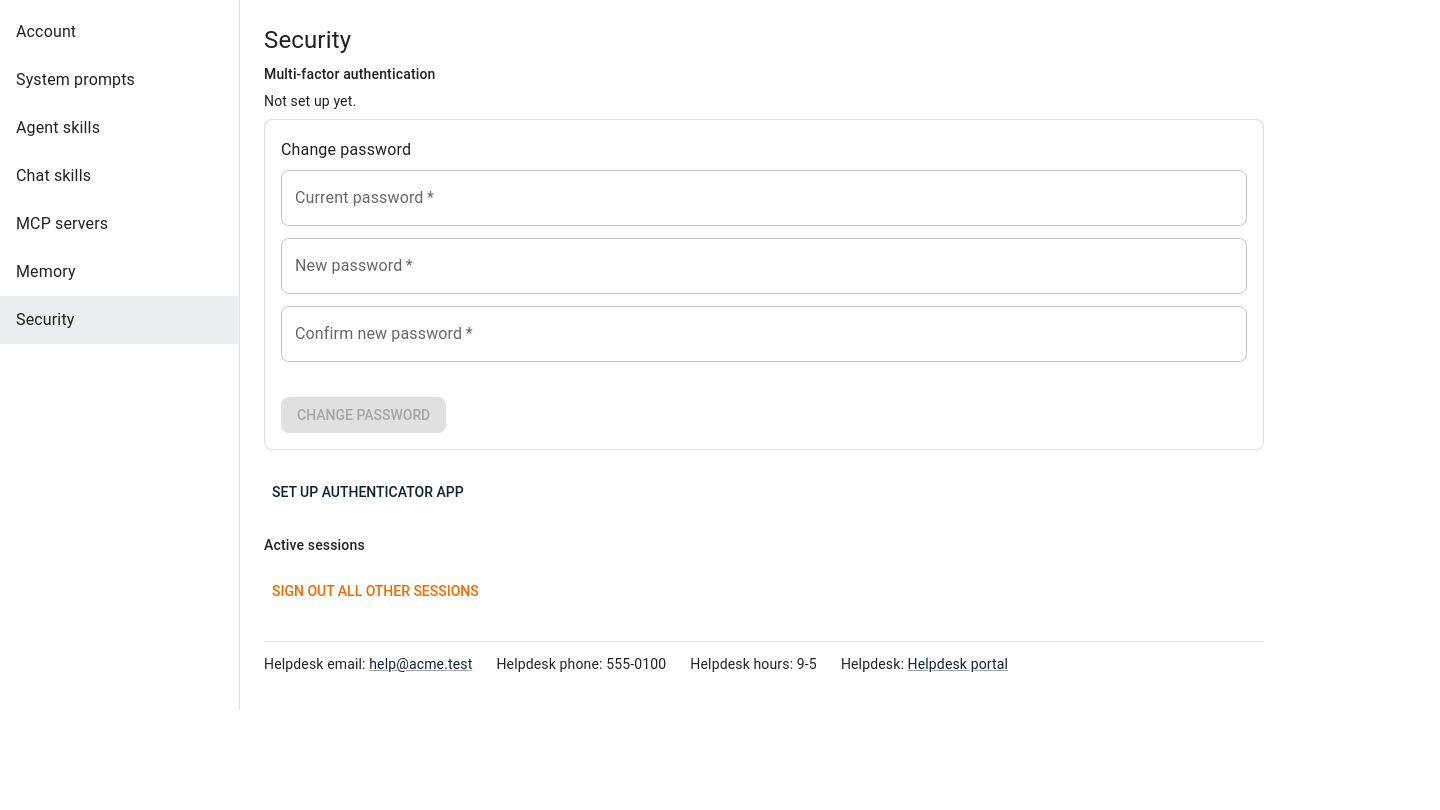
Test: change password (profile → Security) › shows the server's reason when it is refused
The width and height of the screenshot is (1440, 810).
Type "wrong-password" into the password field labelled "Current password *" at (764, 198), box left=281, top=170, right=1247, bottom=226
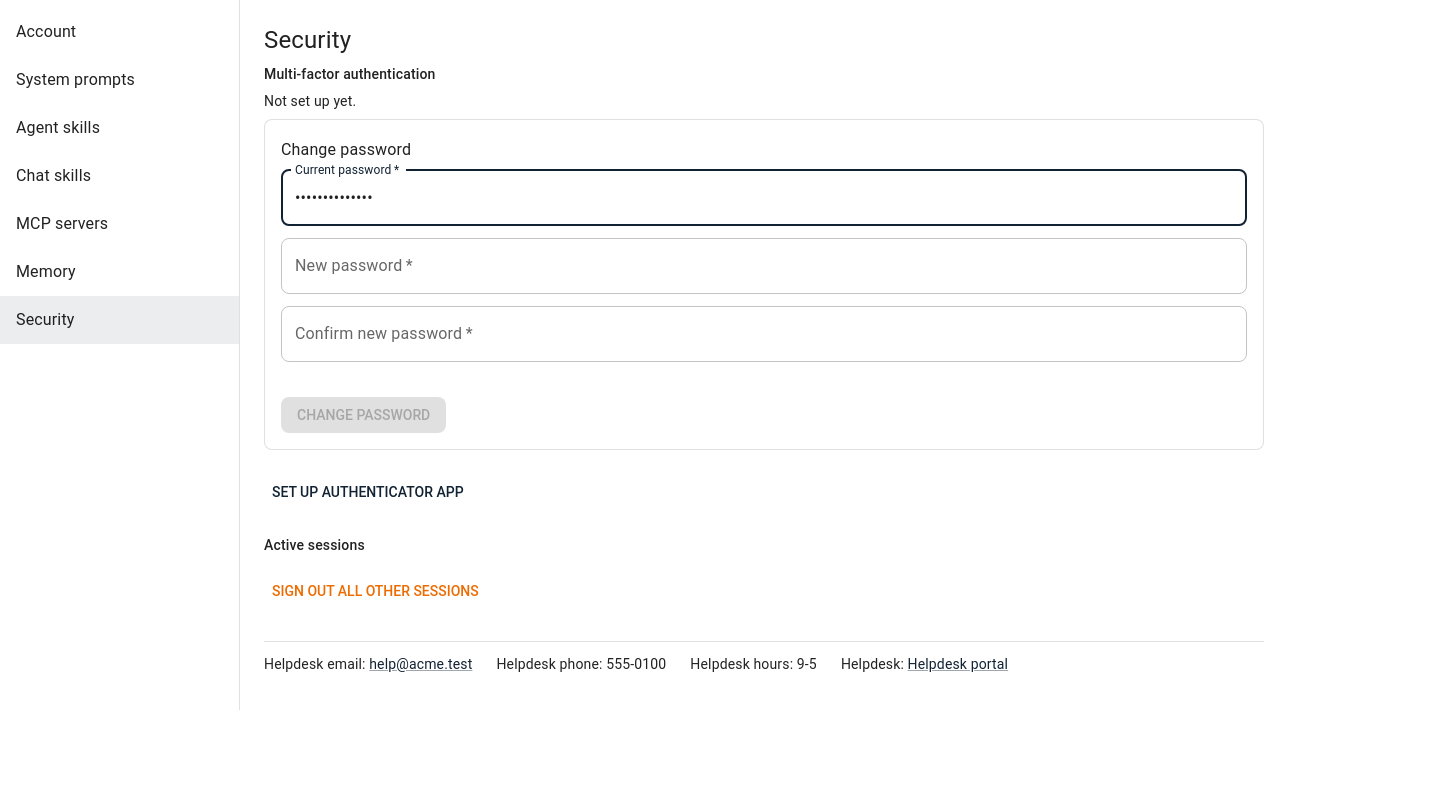
Type "brand-new-pass-2" into the password field labelled "New password *" at (764, 266), box left=281, top=238, right=1247, bottom=294
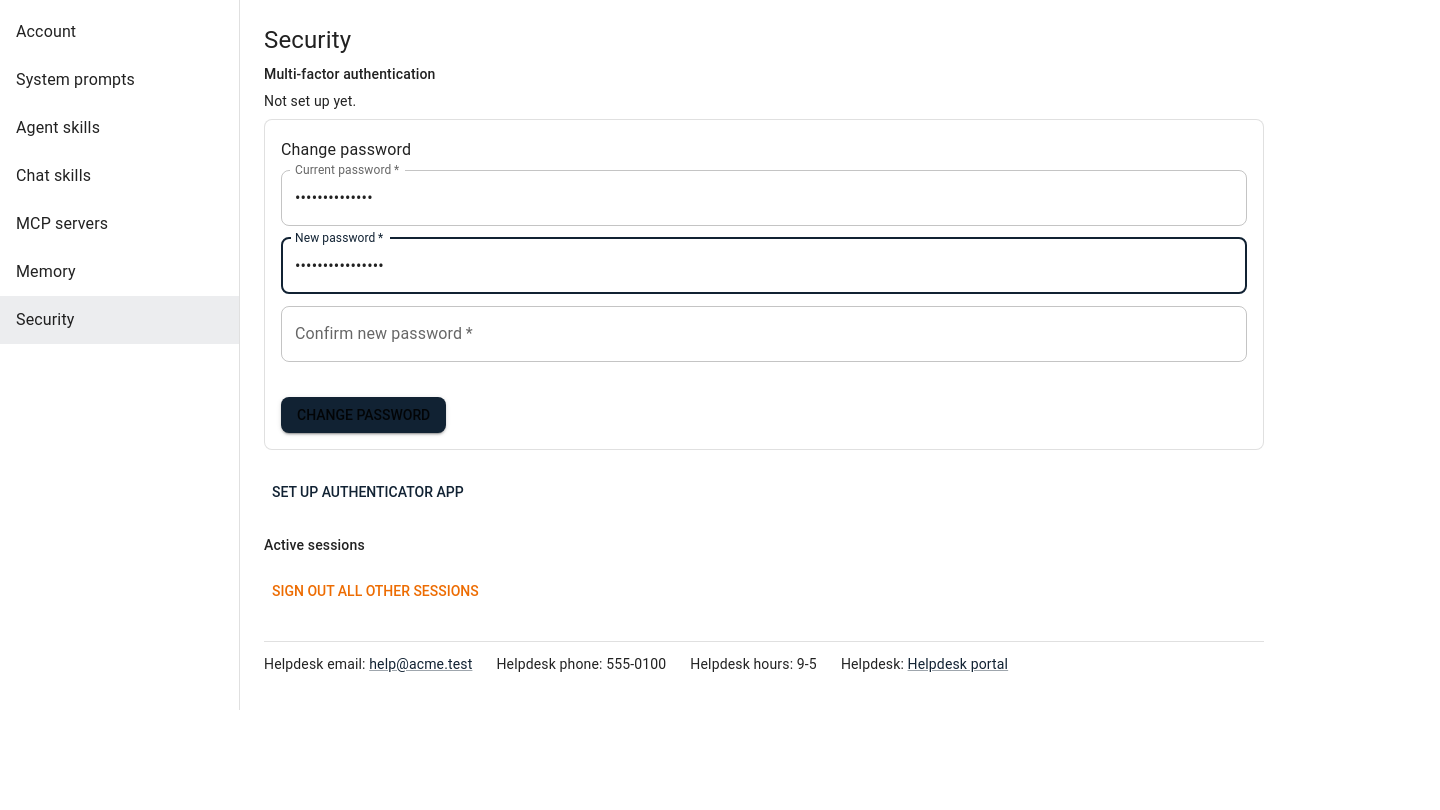
Type "brand-new-pass-2" into the password field labelled "Confirm new password *" at (764, 334), box left=281, top=306, right=1247, bottom=362
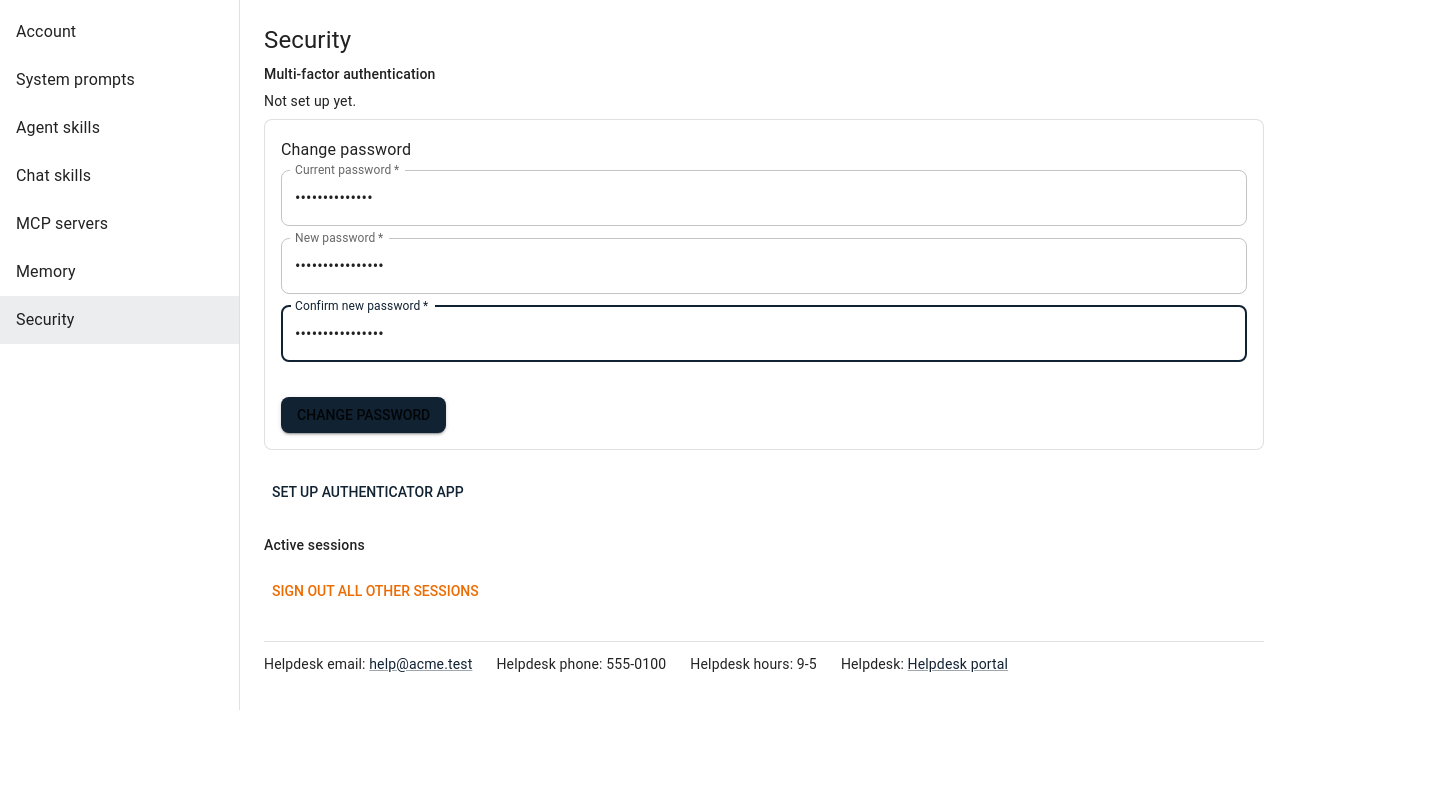
Click the button "Change password" at (364, 415), box left=281, top=397, right=446, bottom=433
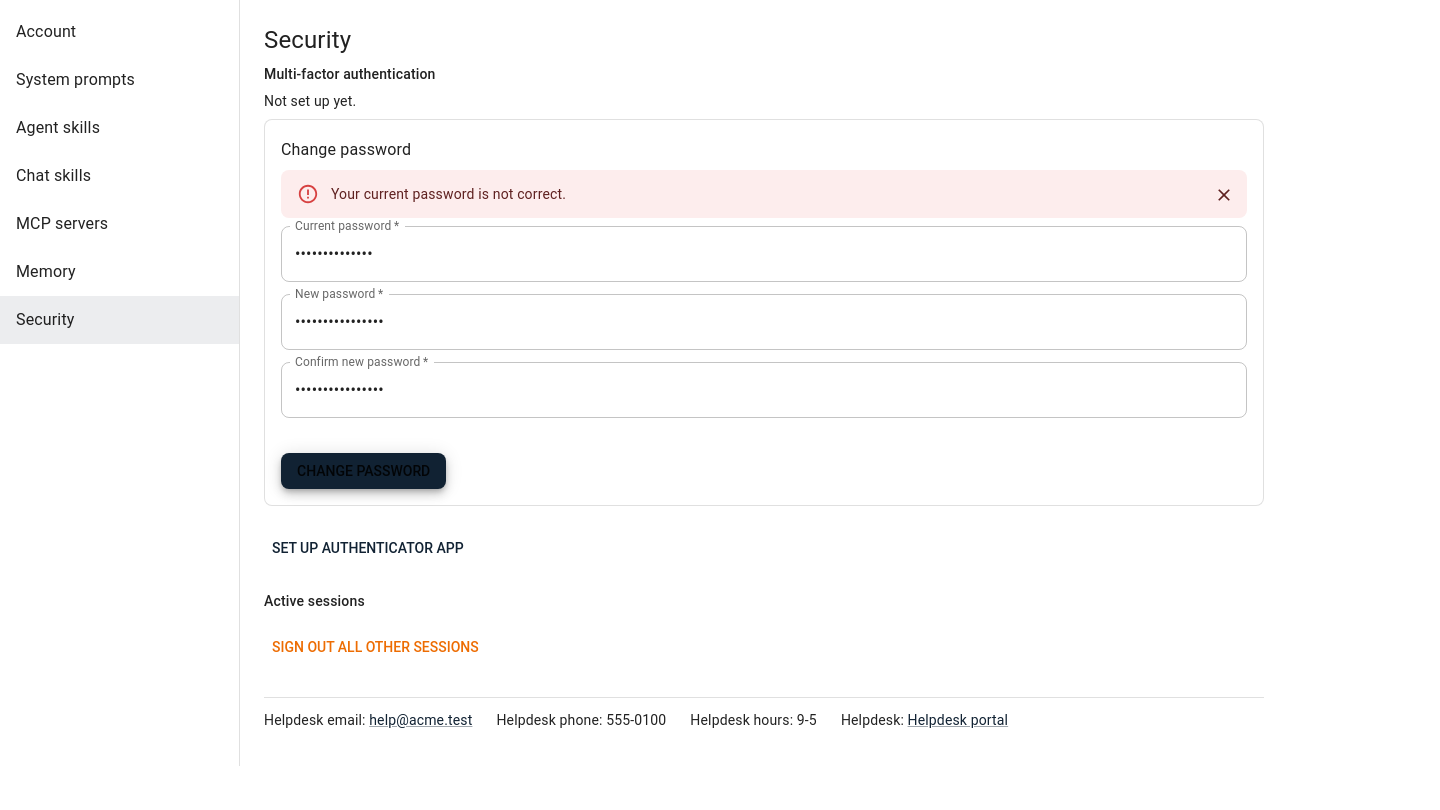
Result: the text "Your current password is not correct." is shown at left=331, top=186, right=566, bottom=202
